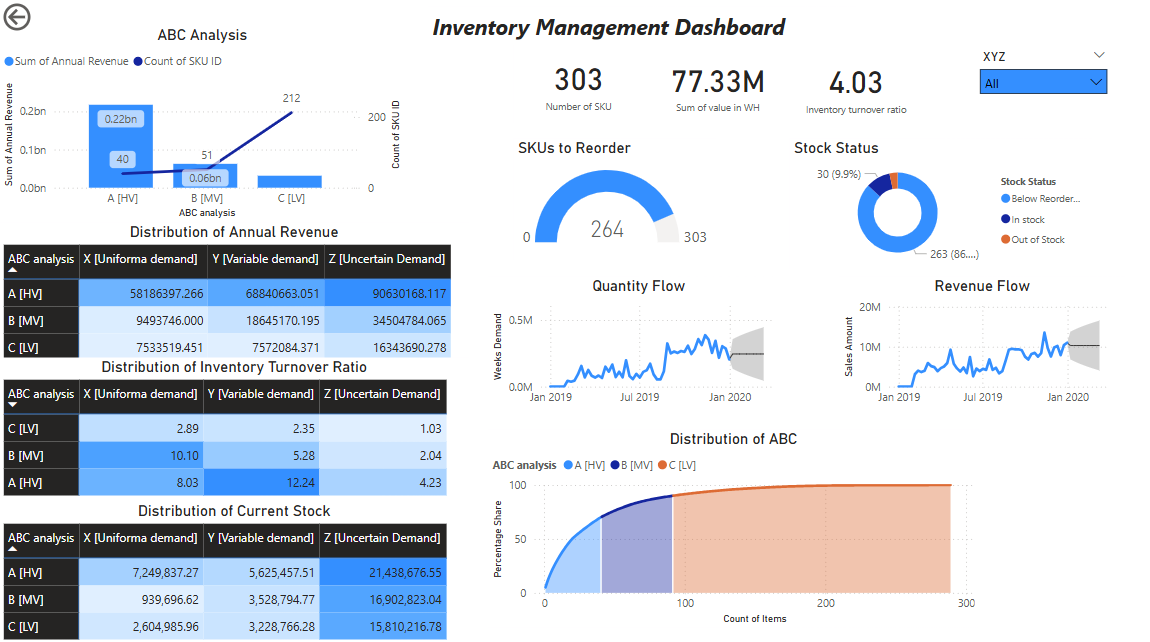

Layout of this report page (visuals, bound fields, positions):
{"tool":"powerbi","page":{"name":"Page 1","canvas":[1280,720],"ordinal":0},"visuals":[{"type":"lineClusteredColumnComboChart","title":"ABC Analysis","fields":{"Category":["Stock.ABC analysis"],"Y":["Sum(Stock.Annual Revenue)"],"Y2":["CountNonNull(Stock.SKU ID)"]},"box":[0,29.9,393.7,219.2],"z":0},{"type":"actionButton","box":[0,0,100,40],"z":1000},{"type":"areaChart","title":"Distribution of ABC","fields":{"Category":["Stock.ABC Rank"],"Y":["Avg(Stock.Cummulative share)"],"Series":["Stock.ABC analysis"]},"box":[543.9,478.6,545.8,220.2],"z":2000},{"type":"pivotTable","title":"Distribution of Annual Revenue","fields":{"Rows":["Stock.ABC analysis"],"Columns":["Stock.XYZ"],"Values":["Sum(Stock.Annual Revenue)"]},"box":[0,249.1,522.4,158.6],"z":3000},{"type":"pivotTable","title":"Distribution of Current Stock","fields":{"Rows":["Stock.ABC analysis"],"Columns":["Stock.XYZ"],"Values":["Sum(Stock.value in WH)"]},"box":[0,558.8,522.4,161.4],"z":4000},{"type":"card","fields":{"Values":["Stock.Inventory turnover ratio"]},"box":[880.7,50.4,143.7,92.4],"z":5000},{"type":"card","fields":{"Values":["CountNonNull(Stock.SKU ID)"]},"box":[571.9,48.5,143.7,89.6],"z":6000},{"type":"card","fields":{"Values":["Sum(Stock.value in WH)"]},"box":[717.4,50.4,163.3,89.6],"z":7000},{"type":"pivotTable","title":"Distribution of Inventory Turnover Ratio","fields":{"Rows":["Stock.ABC analysis"],"Columns":["Stock.XYZ"],"Values":["Stock.Inventory turnover ratio"]},"box":[0,398.4,522.4,160.5],"z":8000},{"type":"gauge","title":"SKUs to Reorder ","fields":{"Y":["Past Orders.SKUs to Reorder"],"MaxValue":["CountNonNull(Stock.SKU ID)"]},"box":[571.9,154.9,224.8,135.3],"z":9000},{"type":"donutChart","title":"Stock Status","fields":{"Category":["Stock.Stock Status"],"Y":["CountNonNull(Stock.SKU ID)"]},"box":[878.8,154.9,338.7,144.6],"z":10000},{"type":"lineChart","title":"Quantity Flow","fields":{"Y":["Sum(week demand sheet.Weeks Demand)"],"Category":["week demand sheet.Value"]},"box":[543.9,308.8,334.9,152.1],"z":11000},{"type":"lineChart","title":"Revenue Flow","fields":{"Category":["week demand sheet.Value"],"Y":["Sum(week demand sheet.Sales Amount)"]},"box":[932.9,308.8,318.1,152.1],"z":12000},{"type":"slicer","fields":{"Values":["Stock.XYZ"]},"box":[1080.3,50.4,161.4,63.4],"z":13000},{"type":"textbox","box":[476.7,8.4,475.8,42],"z":15000}]}

Visuals, with their boxes in screenshot pixels (x1, y1, x2, y2), scaled from the page's 1280x720 canvas onto the 1150x642 screenshot:
"ABC Analysis" lineClusteredColumnComboChart: (x1=0, y1=27, x2=354, y2=222)
actionButton: (x1=0, y1=0, x2=90, y2=36)
"Distribution of ABC" areaChart: (x1=489, y1=427, x2=979, y2=623)
"Distribution of Annual Revenue" pivotTable: (x1=0, y1=222, x2=469, y2=364)
"Distribution of Current Stock" pivotTable: (x1=0, y1=498, x2=469, y2=641)
card - Stock.Inventory turnover ratio: (x1=791, y1=45, x2=920, y2=127)
card - CountNonNull(Stock.SKU ID): (x1=514, y1=43, x2=643, y2=123)
card - Sum(Stock.value in WH): (x1=645, y1=45, x2=791, y2=125)
"Distribution of Inventory Turnover Ratio" pivotTable: (x1=0, y1=355, x2=469, y2=498)
"SKUs to Reorder " gauge: (x1=514, y1=138, x2=716, y2=259)
"Stock Status" donutChart: (x1=790, y1=138, x2=1094, y2=267)
"Quantity Flow" lineChart: (x1=489, y1=275, x2=790, y2=411)
"Revenue Flow" lineChart: (x1=838, y1=275, x2=1124, y2=411)
slicer - Stock.XYZ: (x1=971, y1=45, x2=1116, y2=101)
textbox: (x1=428, y1=7, x2=856, y2=45)
